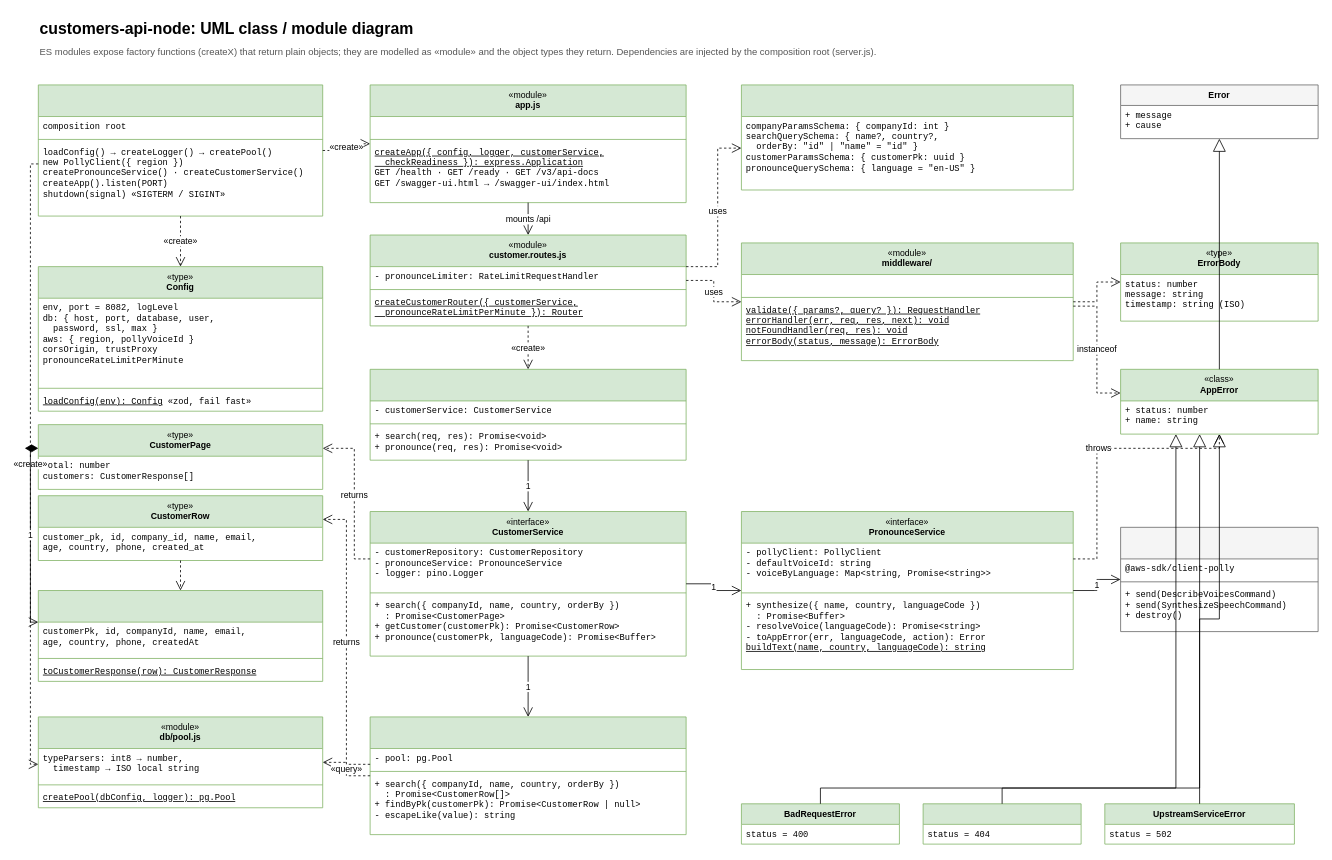
This 1332x860 diagram has some shape labels left out. The box of each missing label's shape, as (x1, y1, x2, y2) in pixels:
NotFoundError: (922, 803, 1081, 844)
«AWS SDK JS v3» PollyClient: (1120, 527, 1318, 632)
«interface» CustomerController: (369, 369, 686, 460)
«interface» CustomerRepository: (369, 716, 686, 835)
«module» customer.schemas.js (zod): (741, 84, 1073, 190)
«module» server.js: (38, 84, 323, 216)
«type» CustomerResponse: (38, 590, 323, 681)
